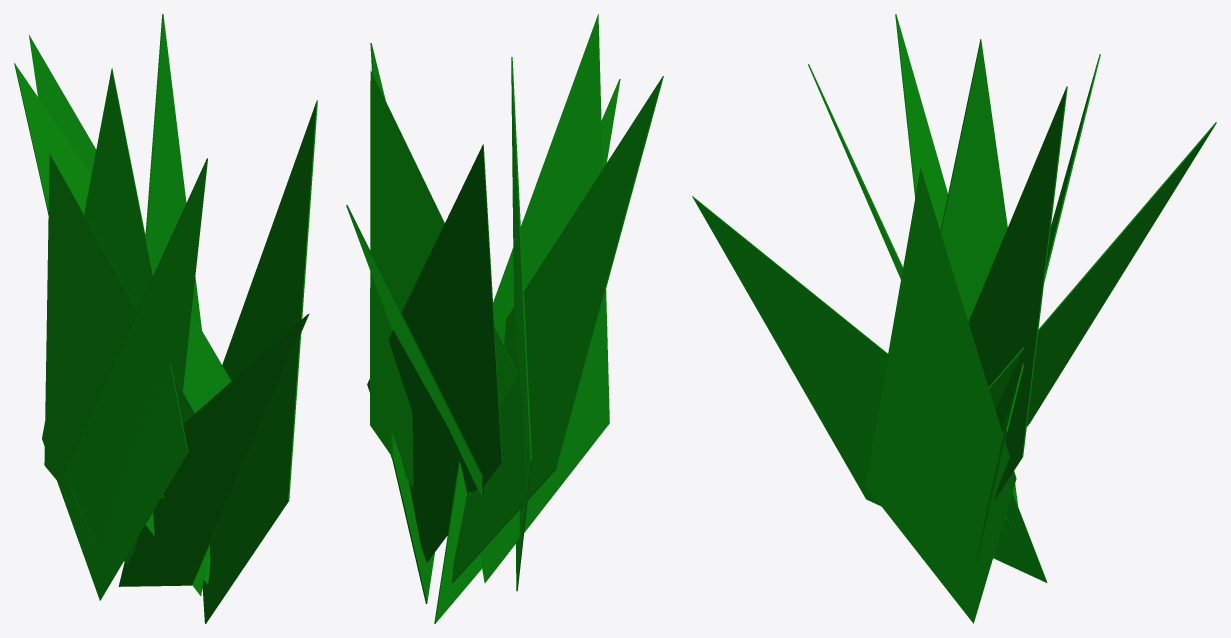
Rendered from Carrots.fbx.
The picture shows the model from 3 angles, left to right: view 1: azimuth 30°, elevation 25°; view 2: azimuth 150°, elevation 25°; view 3: azimuth 270°, elevation 25°; orthographic projection. The views are drawn at different scales.
Parts seen in each view (by area): view 1: Plane.004; view 2: Plane.004; view 3: Plane.004.
Part boxes in pixels (box(x1,y1,x2,y2)): Plane.004: box(14, 14, 317, 623); Plane.004: box(346, 14, 663, 623); Plane.004: box(692, 14, 1216, 623).
Bounding box in the file's own units: 225 × 438 × 384.
